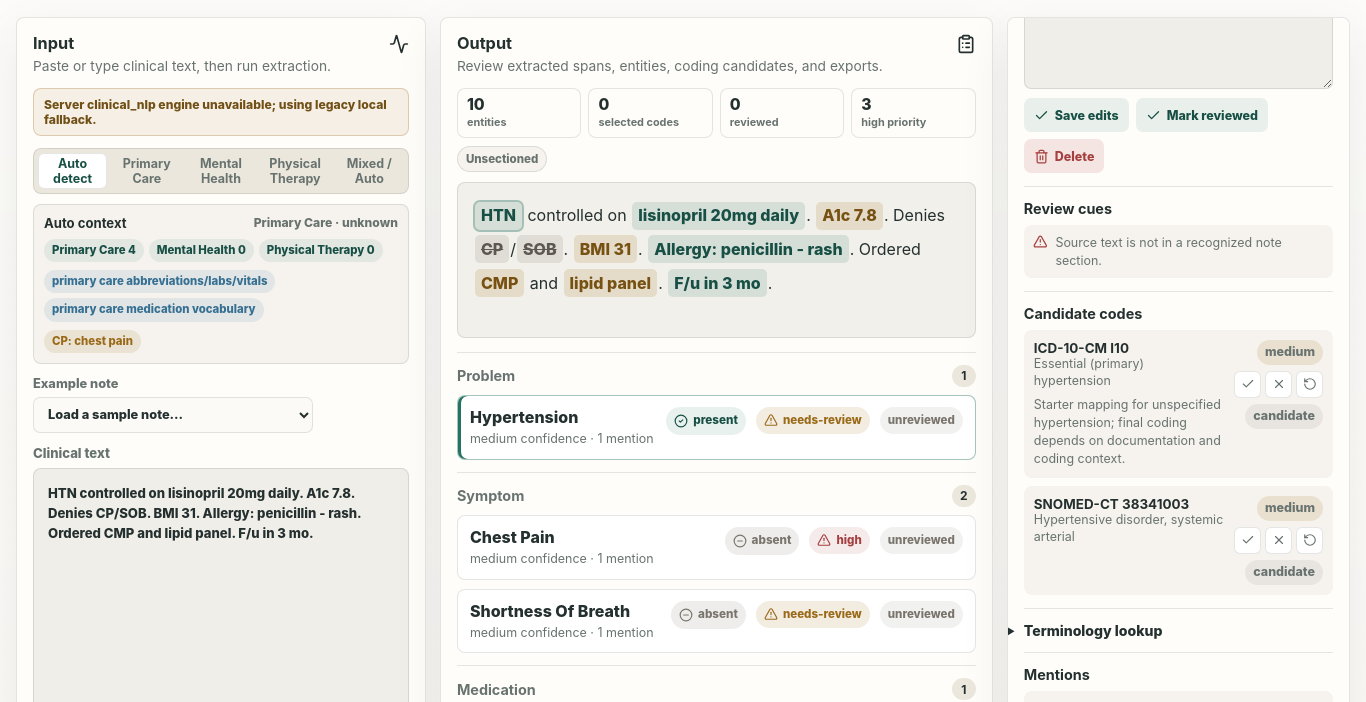
Test case: ClinicalEntityExtractorPrototype › lets reviewers select and reject candidate codes
This screenshot has width=1366, height=702.
(page scrolled)
Click the button named "Select ICD-10-CM I10". click: point(1248, 384)
box: [1234,371,1261,398]
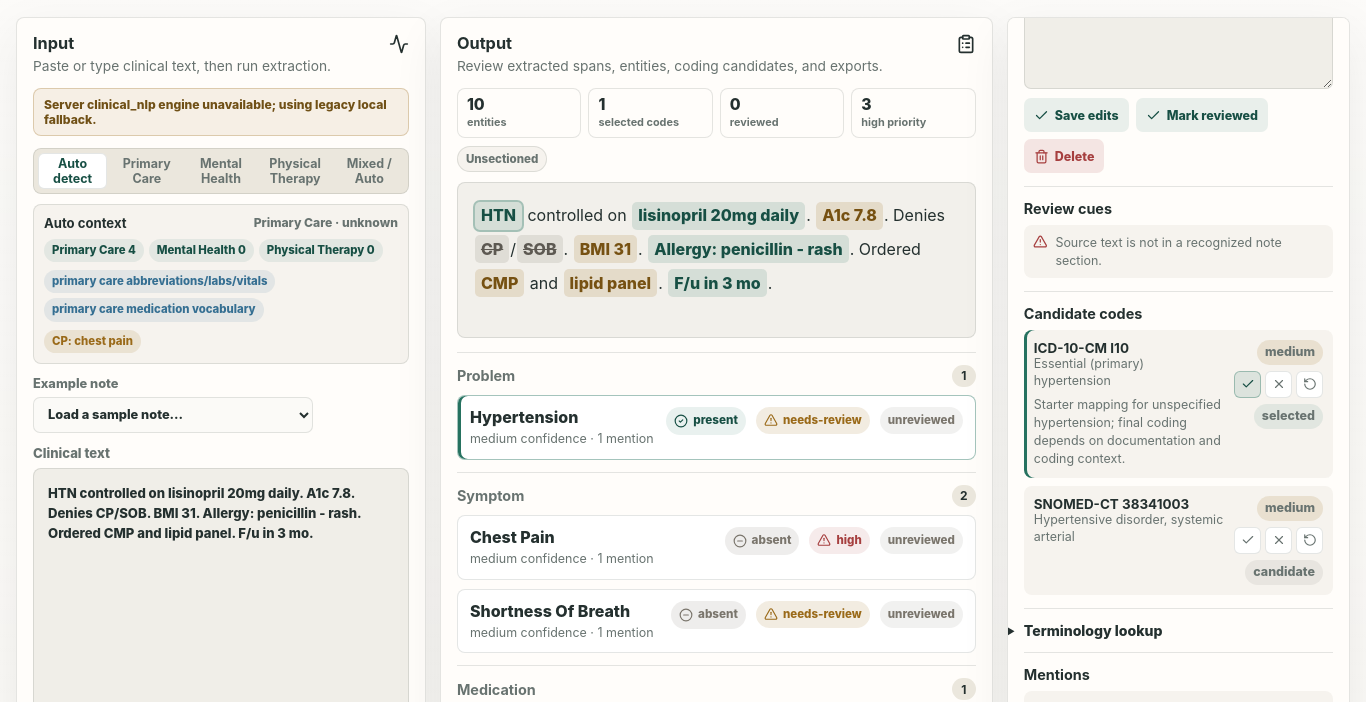
Expected: the text "selected" is shown, [1254,404,1323,429]
Click the button named "Reject SNOMED-CT 38341003". click: point(1278, 540)
box: [1265,527,1292,554]
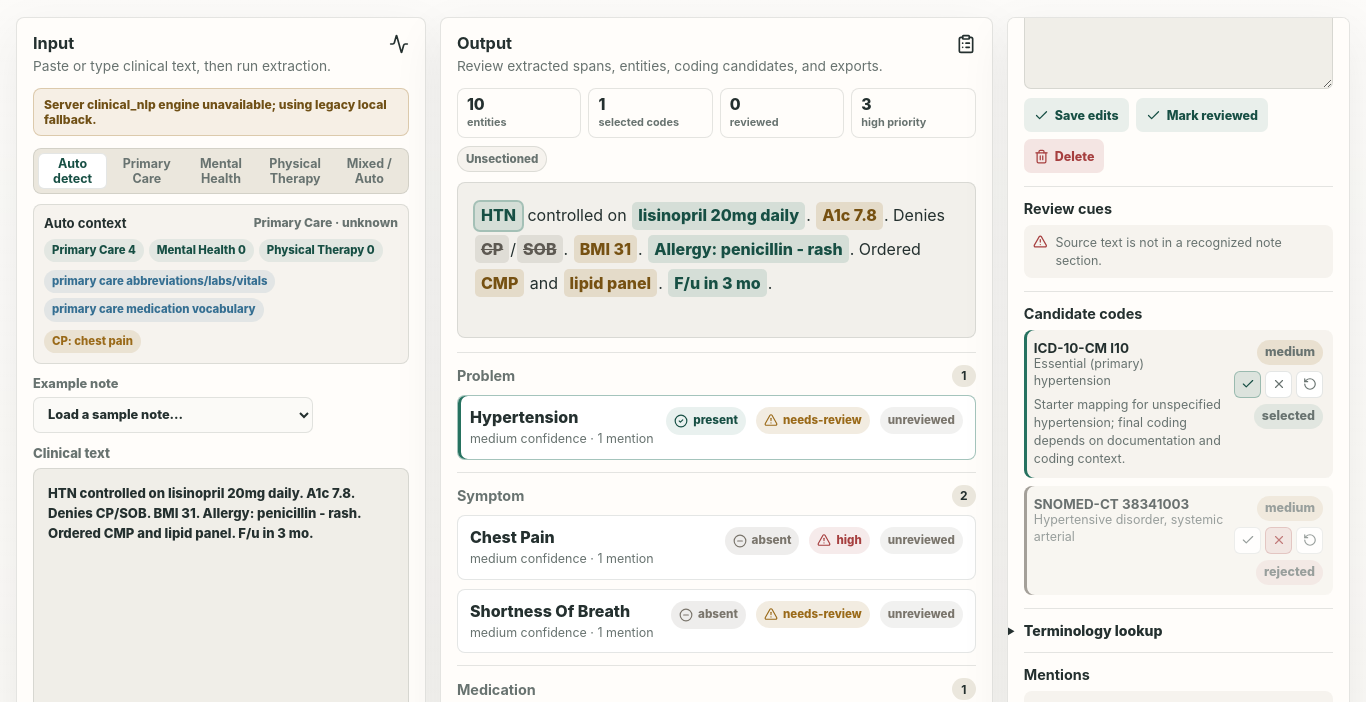
Expected: the text "rejected" is shown, [1256,560,1323,585]
